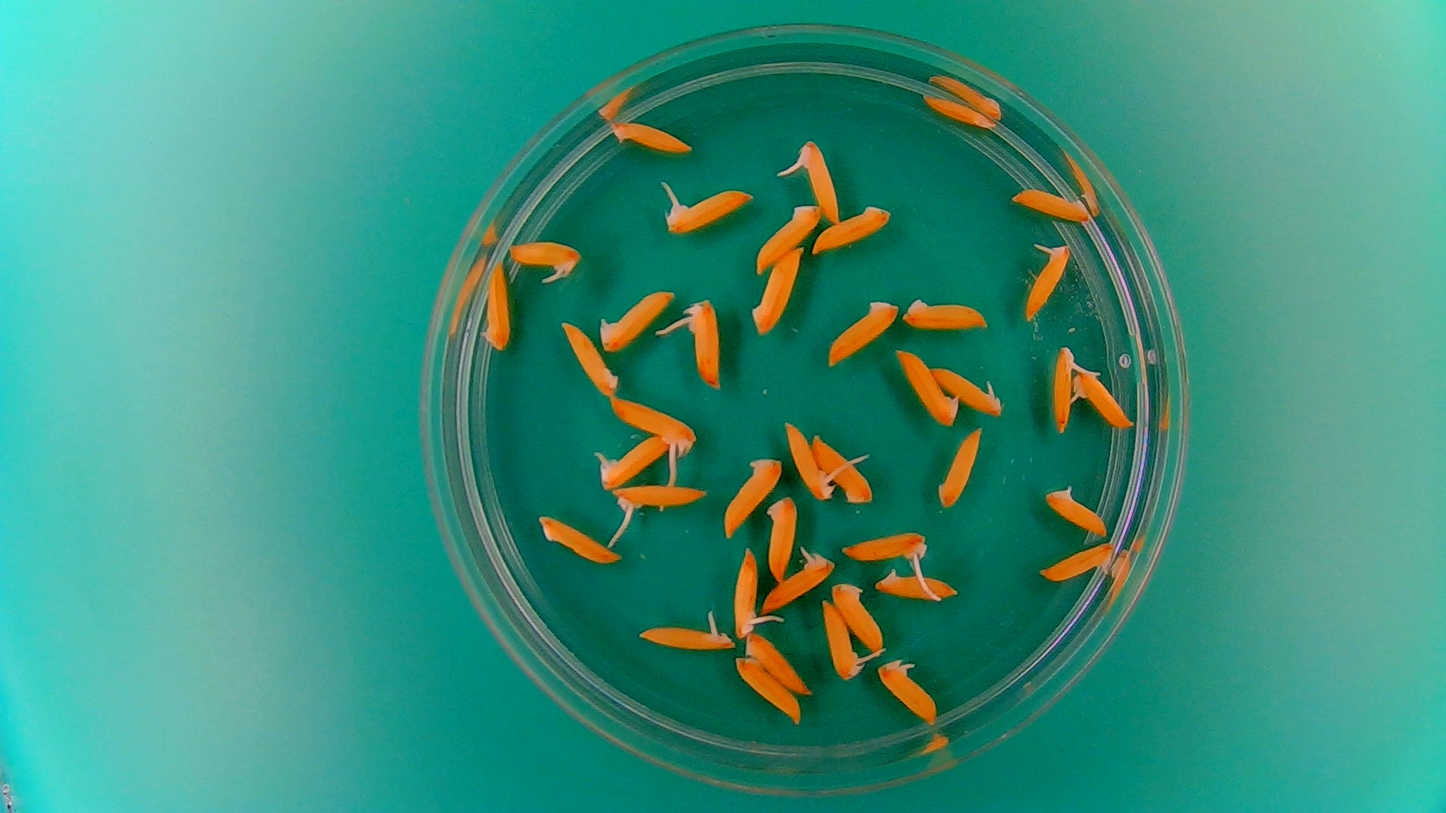no: (596, 282, 678, 355), (892, 343, 960, 428), (824, 294, 901, 367), (720, 451, 783, 540), (557, 317, 623, 399), (753, 201, 823, 273), (750, 245, 804, 337), (537, 511, 623, 568), (811, 431, 876, 506), (740, 632, 813, 696), (733, 653, 801, 721), (933, 425, 985, 512), (830, 577, 886, 655), (811, 202, 893, 253), (1043, 482, 1111, 540), (899, 293, 990, 331), (611, 120, 698, 159), (480, 256, 514, 354), (763, 491, 798, 585), (1009, 184, 1094, 222), (871, 566, 960, 602), (920, 96, 996, 129)
yes: (605, 393, 700, 452), (658, 182, 756, 236), (593, 430, 676, 492), (761, 545, 837, 610), (930, 362, 1006, 420), (783, 423, 837, 504), (876, 662, 941, 728), (1021, 238, 1071, 323), (1071, 364, 1133, 431), (505, 234, 585, 283), (837, 525, 932, 566), (819, 600, 866, 682), (798, 136, 843, 221), (1036, 540, 1117, 584), (1048, 340, 1084, 434), (688, 293, 724, 387), (609, 483, 706, 516), (731, 544, 761, 637), (630, 628, 734, 653)
